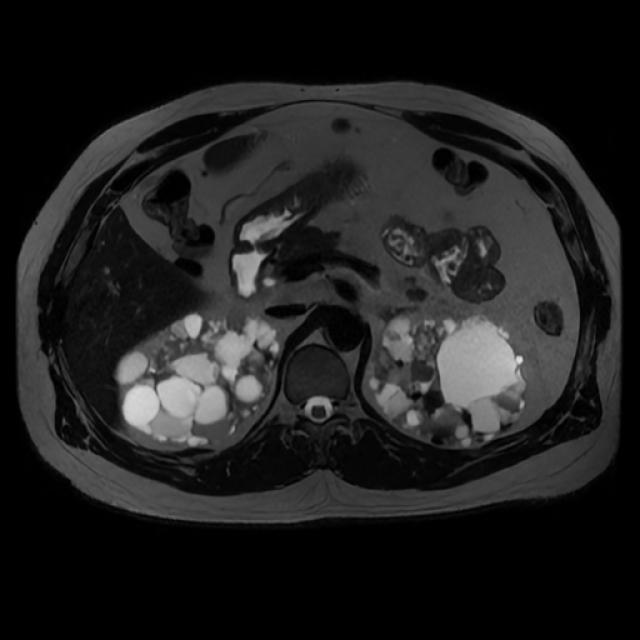sag: (116, 314, 281, 447)
sol: (369, 314, 529, 449)
